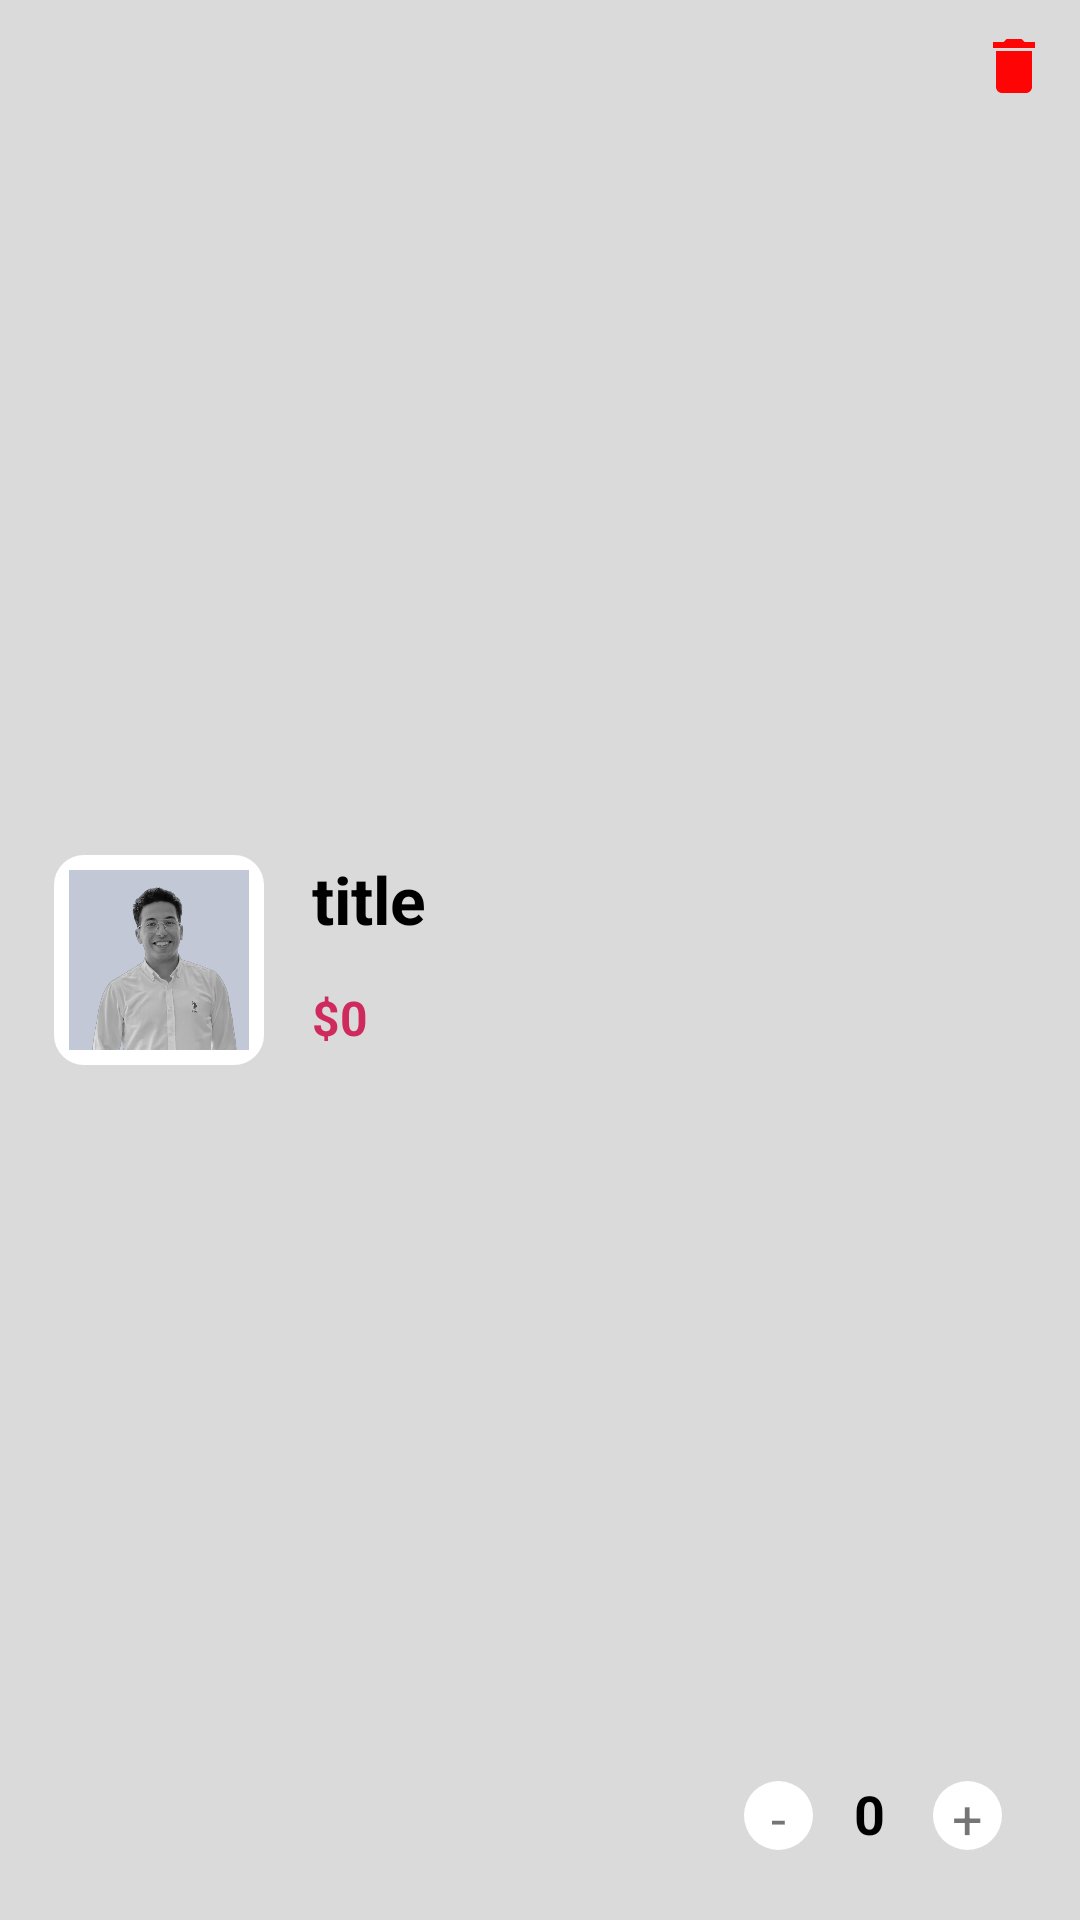

Named icons in this screenshot (1080×1920) and their centers, [x,y]:
delete: [1014,66]
profile pic: [159,960]
